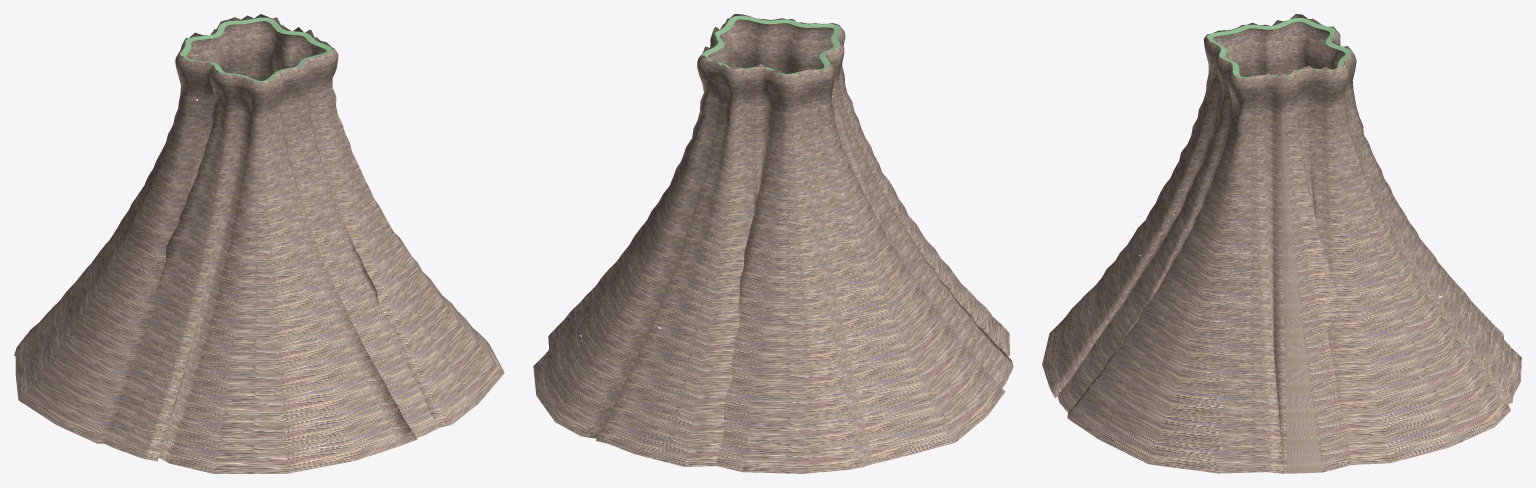
Rendered from CliffWall_stack_01.glb.
3 views of the same model, side by side, from view 1: azimuth 30°, elevation 25°; view 2: azimuth 150°, elevation 25°; view 3: azimuth 270°, elevation 25° (orthographic).
Parts seen in each view (by area): view 1: CliffWall_stack_01-rock0, CliffWall_stack_01-lip0; view 2: CliffWall_stack_01-rock0, CliffWall_stack_01-lip0; view 3: CliffWall_stack_01-rock0, CliffWall_stack_01-lip0.
Boxes of the visible parts, x1,y1,x2,y2 form: CliffWall_stack_01-rock0: (14,14,504,473); CliffWall_stack_01-lip0: (180,17,332,82); CliffWall_stack_01-rock0: (533,14,1013,473); CliffWall_stack_01-lip0: (702,15,840,75); CliffWall_stack_01-rock0: (1042,14,1521,473); CliffWall_stack_01-lip0: (1207,18,1351,78).
Size of the model in its own units: 656 by 495 by 655.
Materials: 4 (1 with a texture image).
